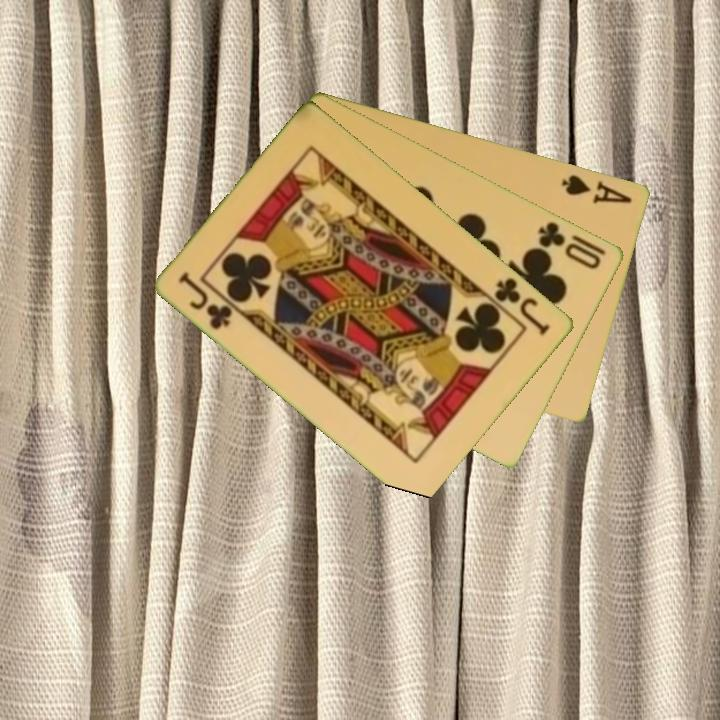10c: (534, 217, 605, 272)
As: (558, 170, 636, 207)
Jc: (491, 274, 554, 338), (175, 268, 236, 333)
